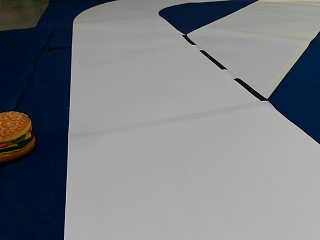burger: (0, 110, 35, 161)
